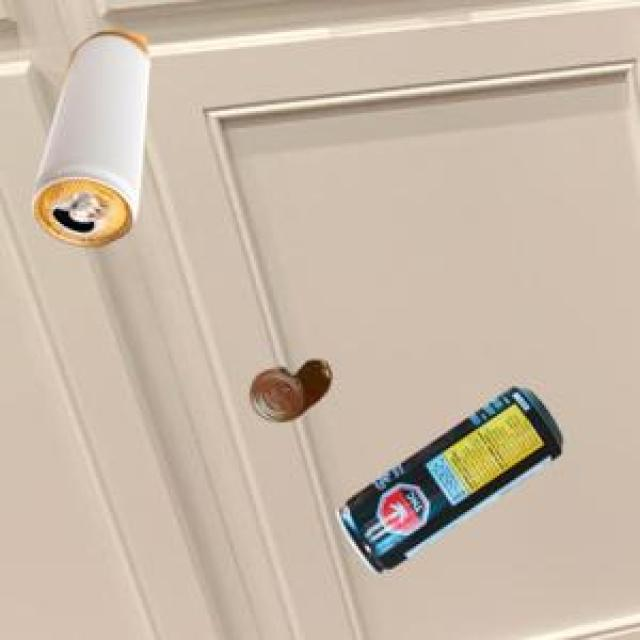logam: (334, 385, 558, 571), (29, 29, 146, 244), (251, 357, 327, 417)
